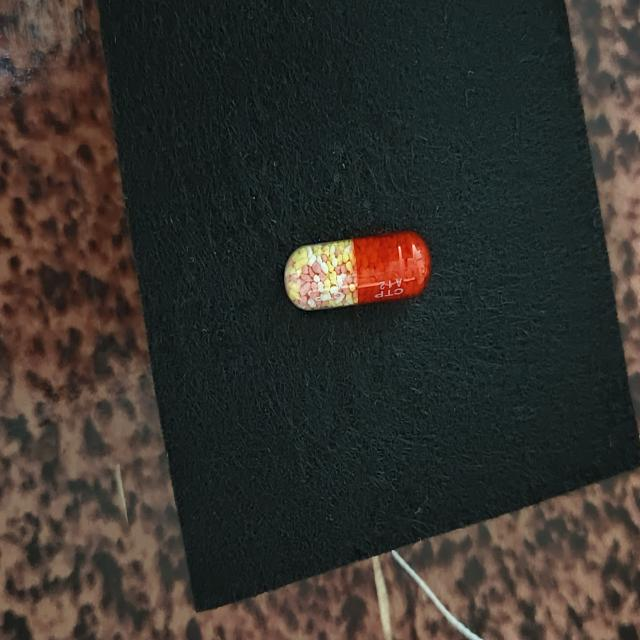Intact Capsule: (284, 231, 431, 311)
